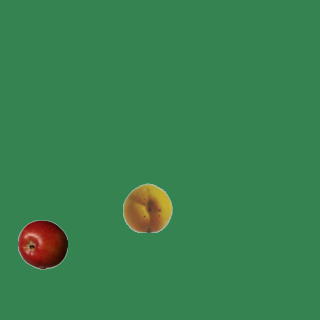Apple Braeburn: (17, 219, 67, 269)
Peach 2: (122, 182, 172, 232)
